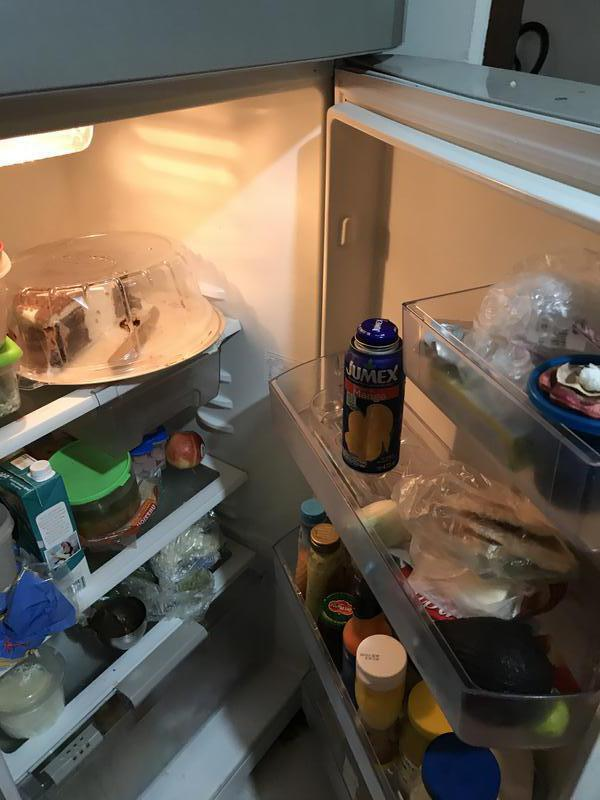jugo_jumex: (342, 318, 405, 475)
